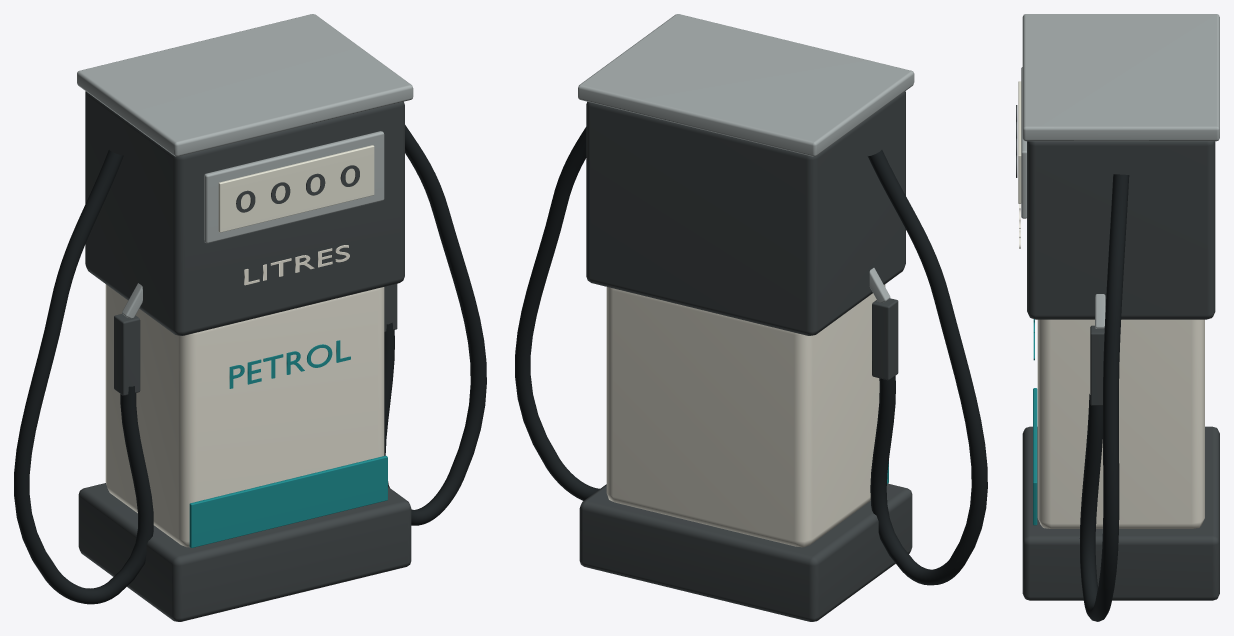
File: petrol-pump.glb
3 views of the same model, side by side, from view 1: azimuth 30°, elevation 25°; view 2: azimuth 150°, elevation 25°; view 3: azimuth 270°, elevation 25° (orthographic).
Visible parts, largest first — view 1: Pump head • charcoal enamel, Warm ivory • canopy and pump enamel, Brushed metal, Hose rubber, Period PETRONAS turquoise, Mechanical counter face; view 2: Pump head • charcoal enamel, Warm ivory • canopy and pump enamel, Brushed metal, Hose rubber; view 3: Pump head • charcoal enamel, Warm ivory • canopy and pump enamel, Brushed metal, Hose rubber, Period PETRONAS turquoise, Mechanical counter face.
Boxes of the visible parts, box(x1,y1,x2,y2) form: Pump head • charcoal enamel: box(78, 91, 411, 621); Warm ivory • canopy and pump enamel: box(105, 245, 384, 547); Brushed metal: box(77, 14, 413, 318); Hose rubber: box(14, 125, 486, 604); Period PETRONAS turquoise: box(189, 340, 387, 547); Mechanical counter face: box(218, 145, 374, 232); Pump head • charcoal enamel: box(579, 91, 912, 621); Warm ivory • canopy and pump enamel: box(606, 284, 885, 547); Brushed metal: box(578, 14, 914, 302); Hose rubber: box(515, 127, 987, 585); Pump head • charcoal enamel: box(1016, 105, 1219, 600); Warm ivory • canopy and pump enamel: box(1019, 204, 1204, 528); Brushed metal: box(1021, 14, 1219, 328); Hose rubber: box(1079, 174, 1129, 621); Period PETRONAS turquoise: box(1033, 319, 1037, 525); Mechanical counter face: box(1018, 81, 1021, 203).
Bounding box in the file's own units: 1.79 × 1.76 × 0.682.
